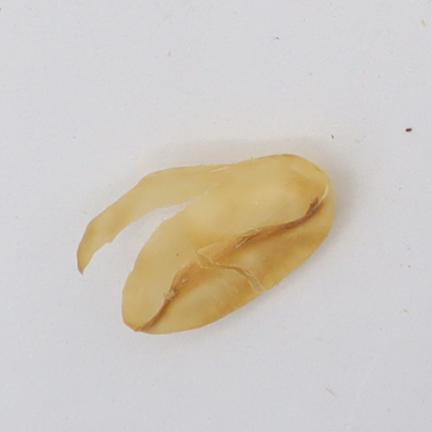parchment: (77, 155, 334, 334)
